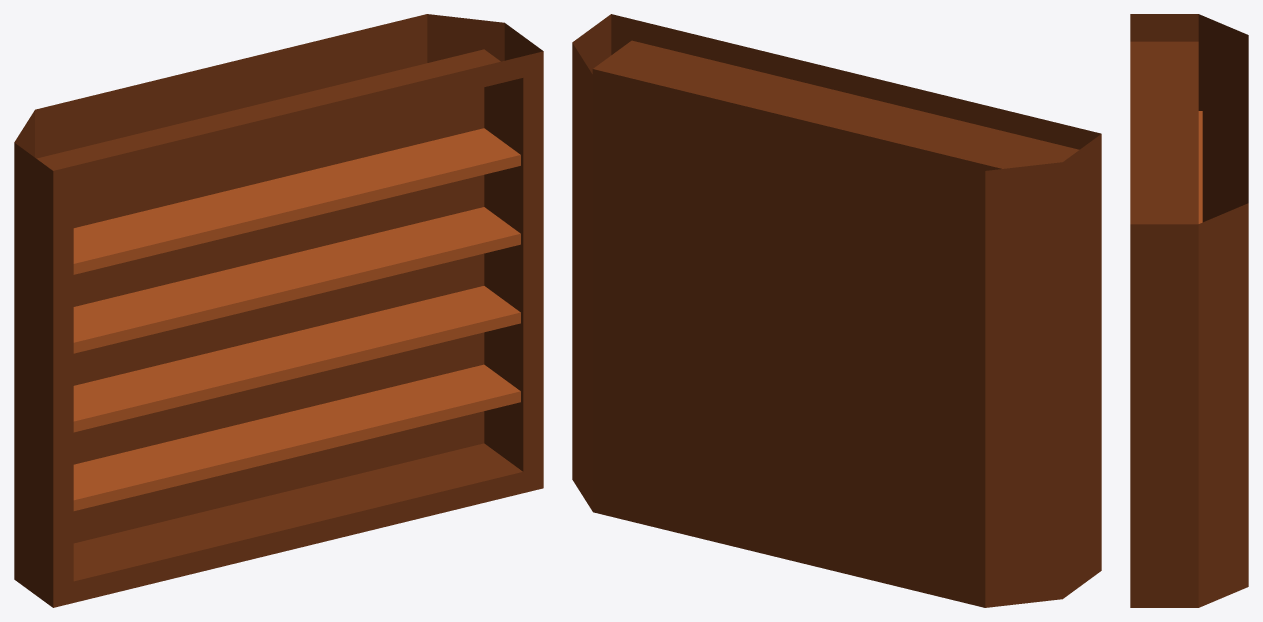
File: Kast.fbx
3 views of the same model, side by side, from view 1: azimuth 30°, elevation 25°; view 2: azimuth 150°, elevation 25°; view 3: azimuth 270°, elevation 25° (orthographic). The views are drawn at different scales.
Parts seen in each view (by area): view 1: Plane.009; view 2: Plane.009; view 3: Plane.009.
Part boxes in pixels (bbox=[...]): Plane.009: bbox=[14, 14, 543, 607]; Plane.009: bbox=[572, 14, 1101, 607]; Plane.009: bbox=[1130, 14, 1248, 607].
Bounding box in the file's own units: 2.35 × 2 × 0.5584.
